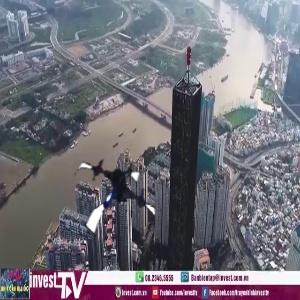drone: (66, 151, 165, 250)
